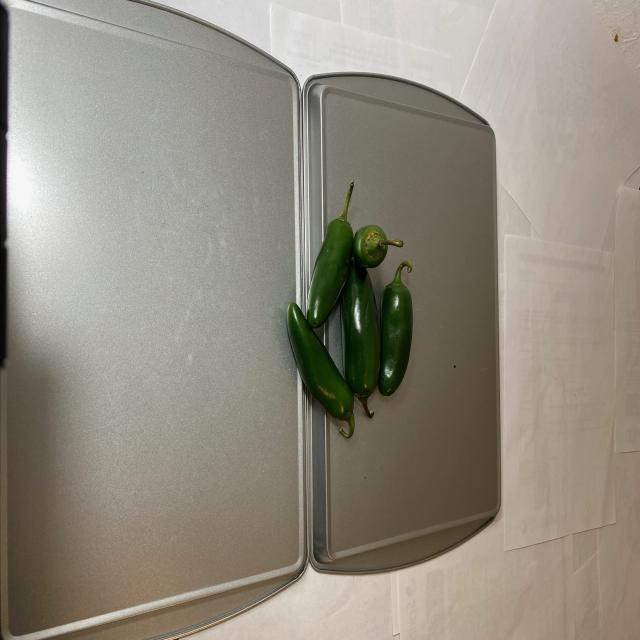chilli: (284, 193, 412, 446)
